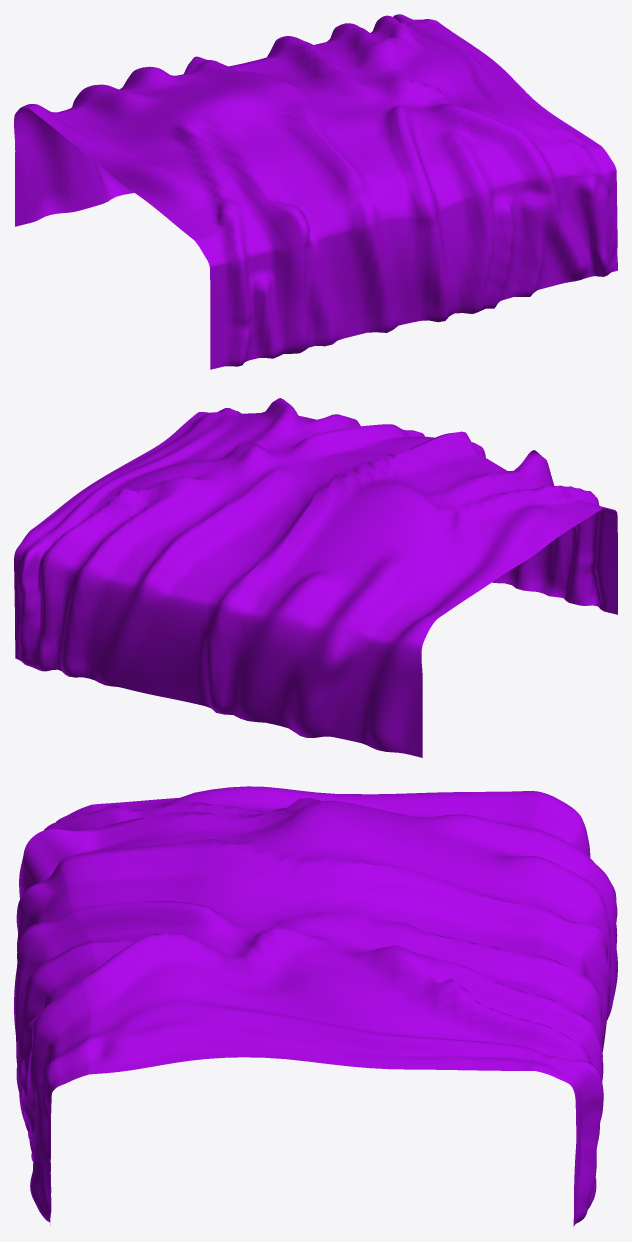
The model's file is sm_bedCover.fbx.
3 renders of one model, top to bottom at view 1: azimuth 30°, elevation 25°; view 2: azimuth 150°, elevation 25°; view 3: azimuth 270°, elevation 25°, orthographic. The views are drawn at different scales.
Parts seen in each view (by area): view 1: bedCover; view 2: bedCover; view 3: bedCover.
Boxes of the visible parts, x1,y1,x2,y2 form: bedCover: (14,14,617,369); bedCover: (14,398,617,757); bedCover: (14,786,617,1226).
Size of the model in its own units: 895 by 360 by 855.
